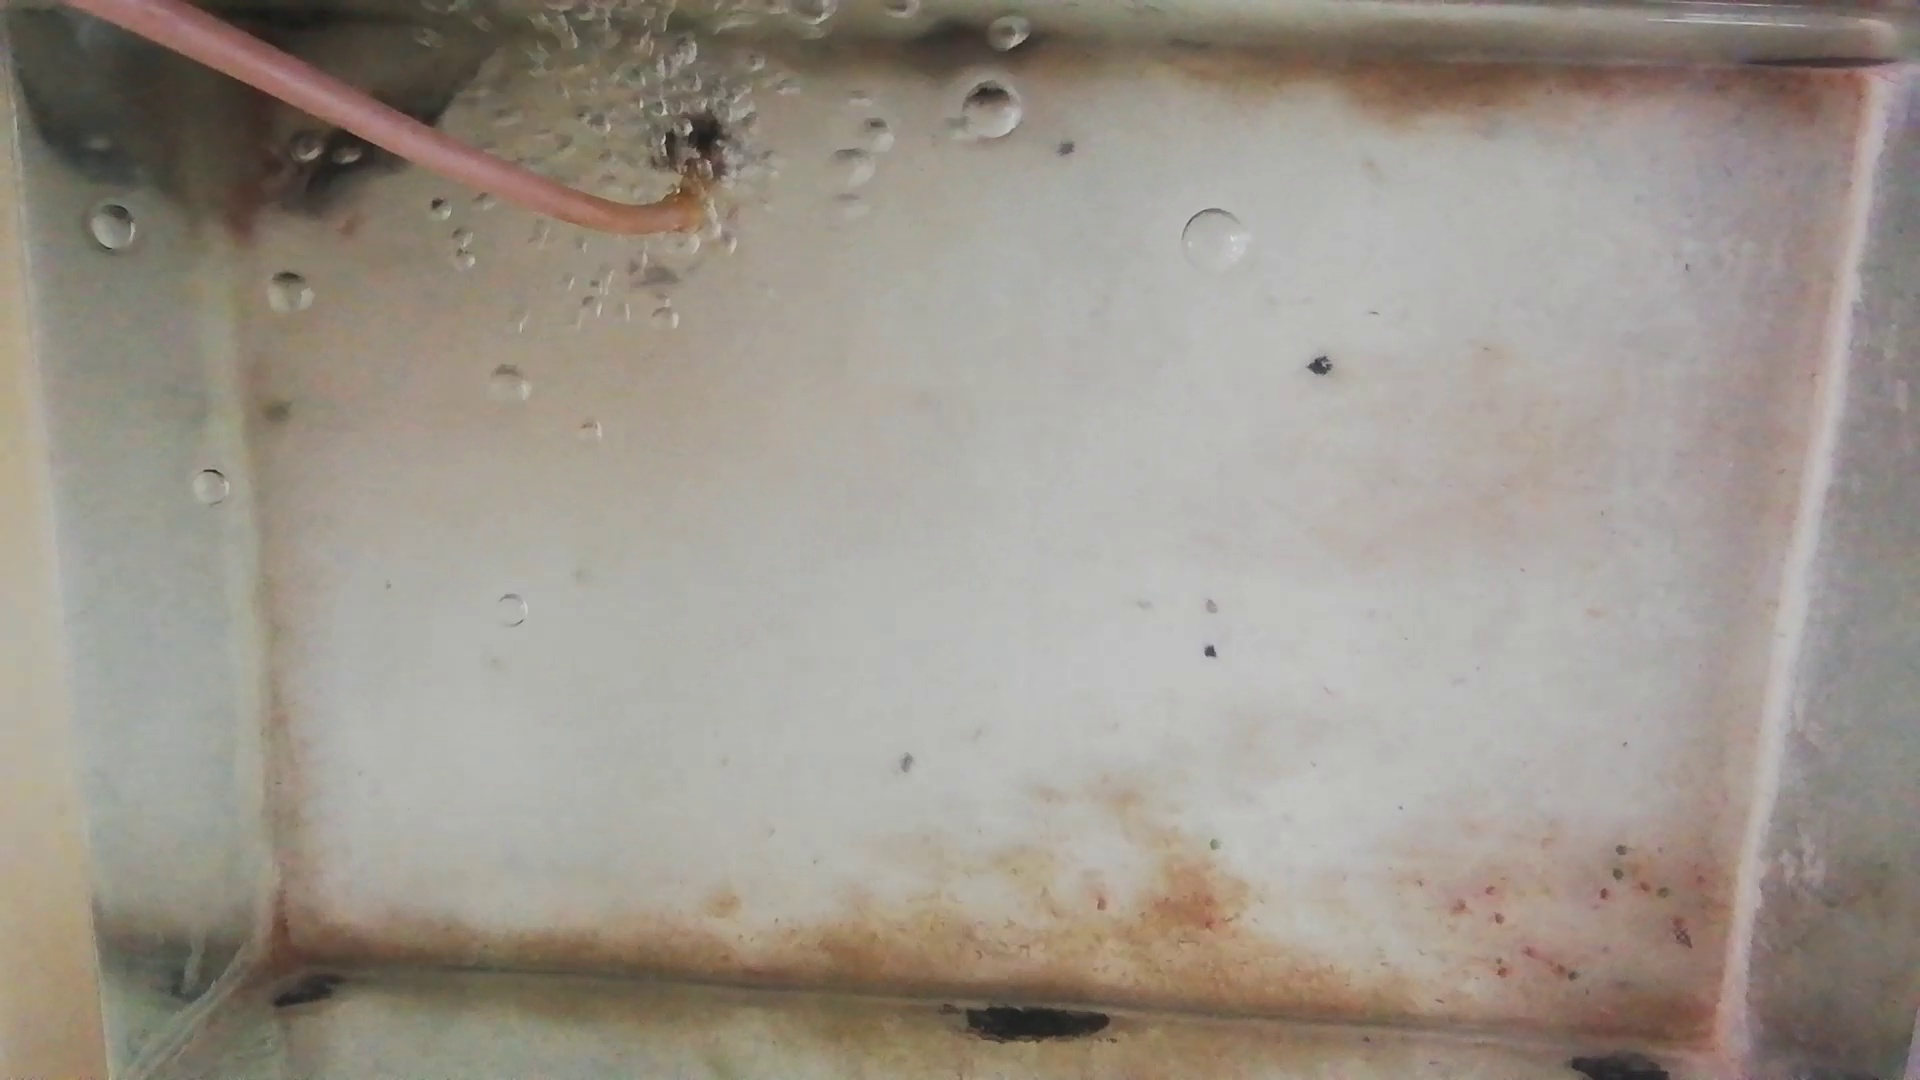fish: (278, 91, 452, 222), (227, 82, 272, 241)
